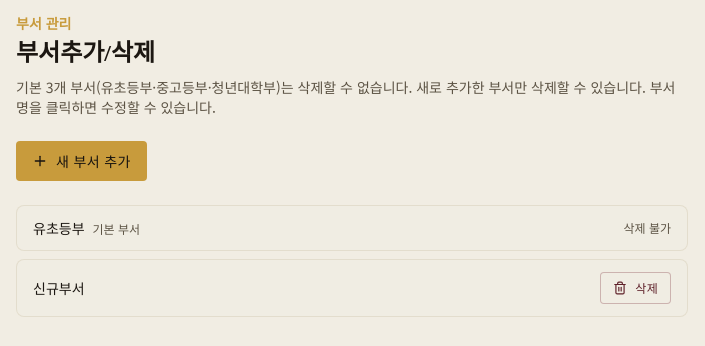
it: EducationDeptManagePanel › cancels inline rename without saving
Click the button "유초등부" at (59, 228), box [33, 218, 612, 238]
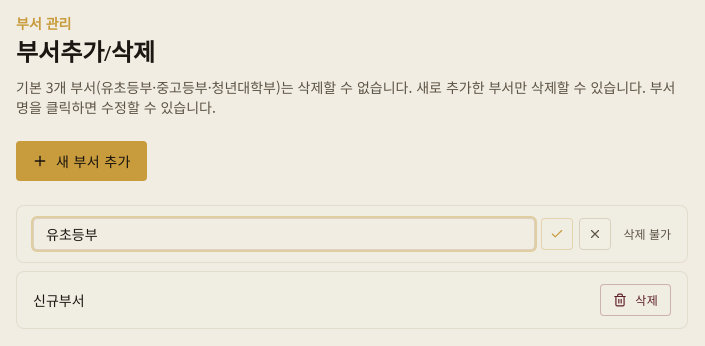
Type "변경중" into the field named "유초등부 부서명 수정" at (284, 234), box [33, 218, 536, 250]
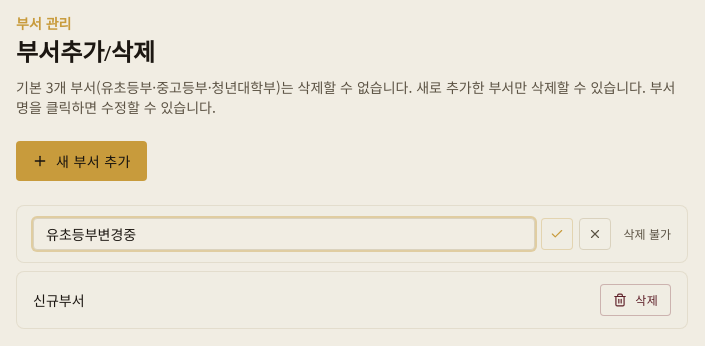
Click the button named "취소" at (596, 234), box [580, 218, 612, 250]
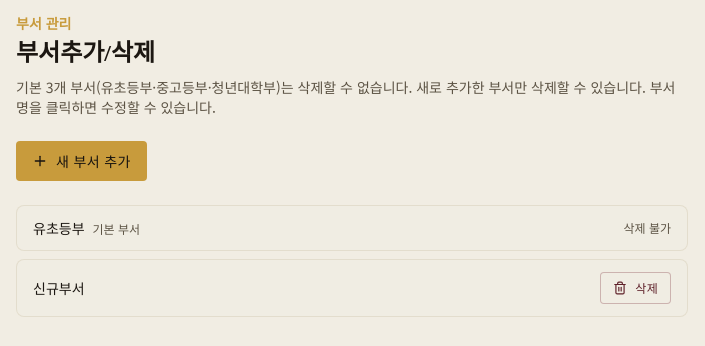
Expected: the button "유초등부" is shown, [33, 218, 612, 238]
